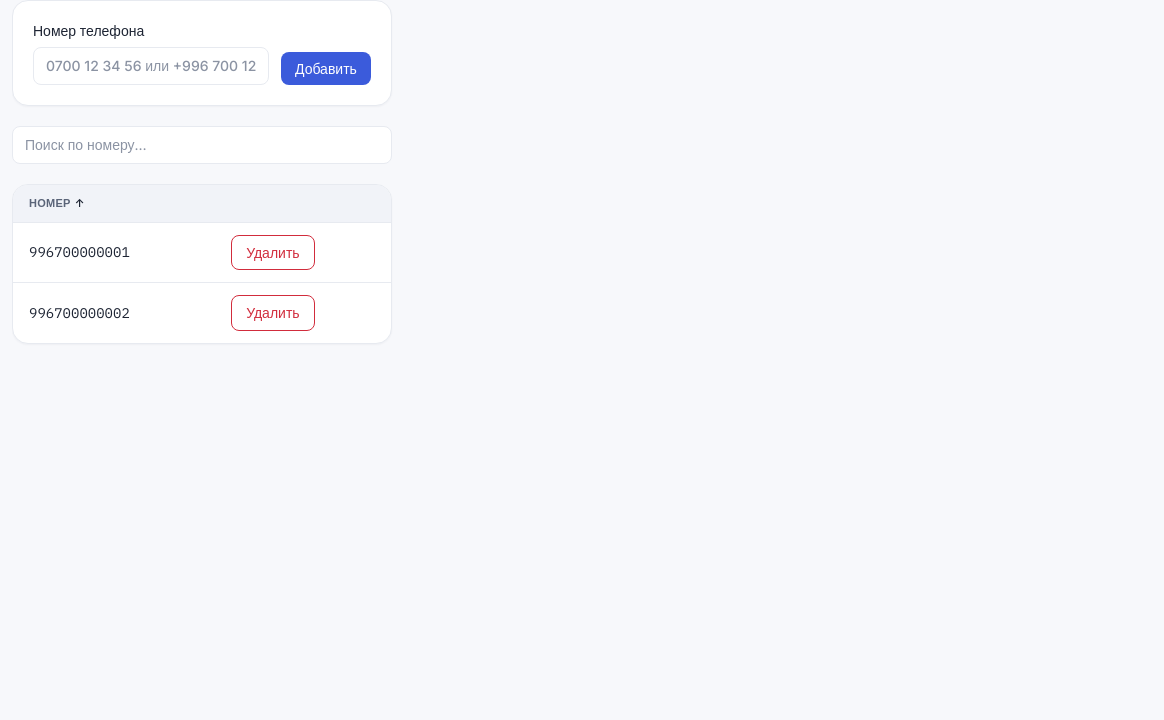
deletes a number and removes its row
Click the button "Удалить" next to "996700000001": (273, 252) [231,234,315,270]
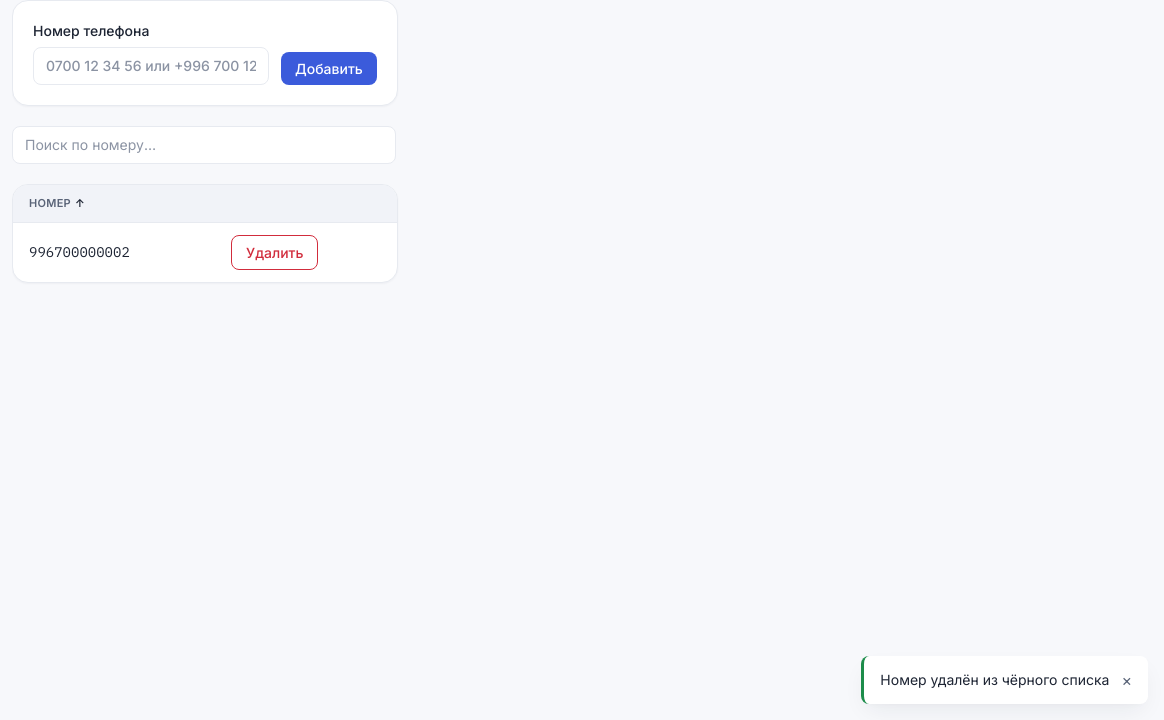
Expected: the text "996700000001" is gone
Expected: the message shows "удалён", [880,671,1109,688]
